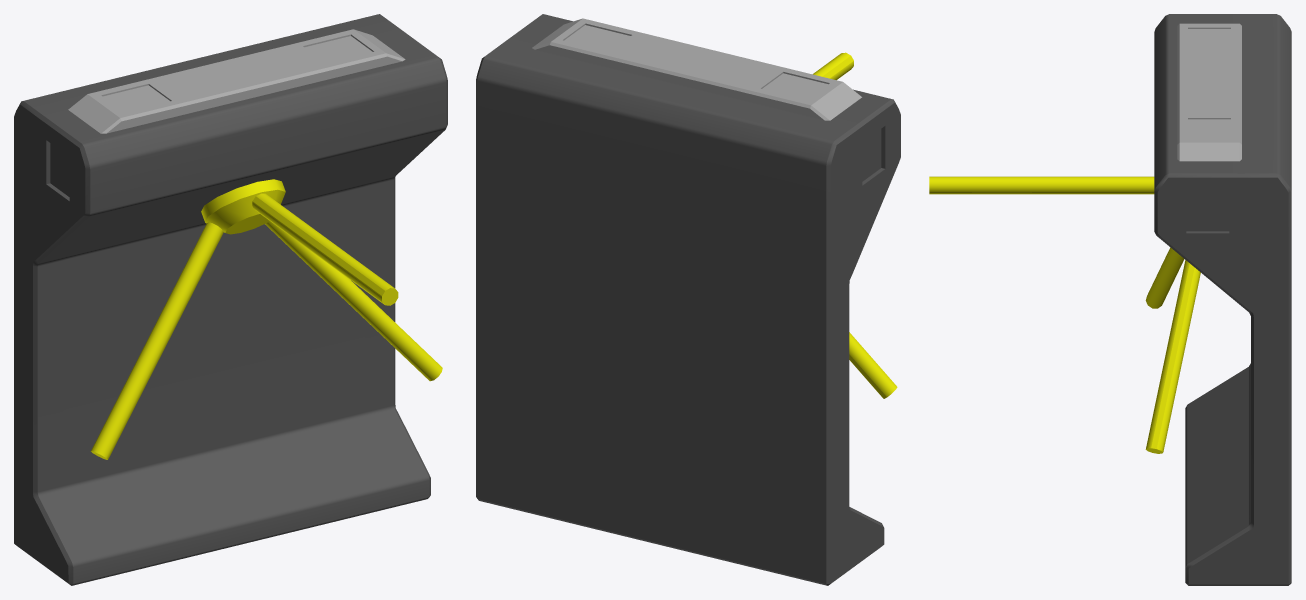
The model's file is Molinete.fbx.
3 renders of one model, left to right at view 1: azimuth 30°, elevation 25°; view 2: azimuth 150°, elevation 25°; view 3: azimuth 270°, elevation 25°, orthographic. The views are drawn at different scales.
Visible parts, largest first — view 1: Cosa_Metalica, Cosito_giratorio, Panel; view 2: Cosa_Metalica, Panel, Cosito_giratorio; view 3: Cosa_Metalica, Panel, Cosito_giratorio.
Part boxes in pixels (bbox=[...]): Cosa_Metalica: bbox=[14, 14, 447, 585]; Cosito_giratorio: bbox=[91, 179, 442, 459]; Panel: bbox=[68, 29, 405, 133]; Cosa_Metalica: bbox=[476, 14, 900, 585]; Panel: bbox=[532, 18, 861, 120]; Cosito_giratorio: bbox=[813, 52, 897, 398]; Cosa_Metalica: bbox=[1154, 14, 1291, 585]; Panel: bbox=[1177, 23, 1241, 161]; Cosito_giratorio: bbox=[929, 176, 1200, 453].
Size of the model in its own units: 5.95 by 7.22 by 5.62.
